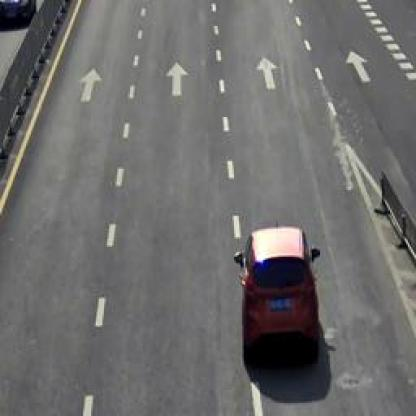other: (234, 209, 326, 352)
